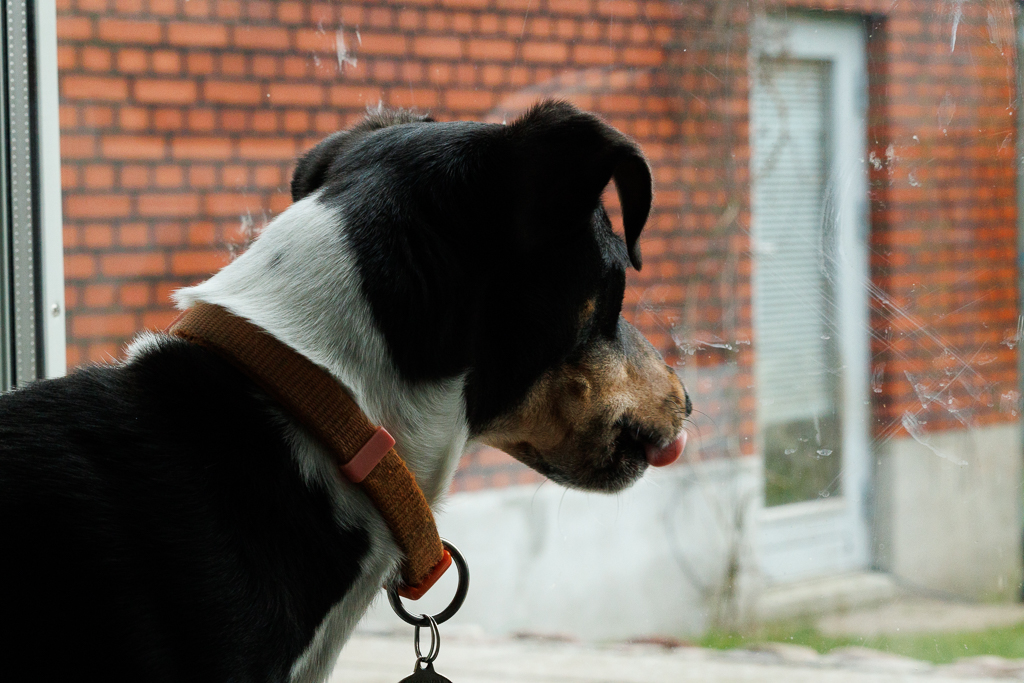Dog: (0, 85, 728, 683)
